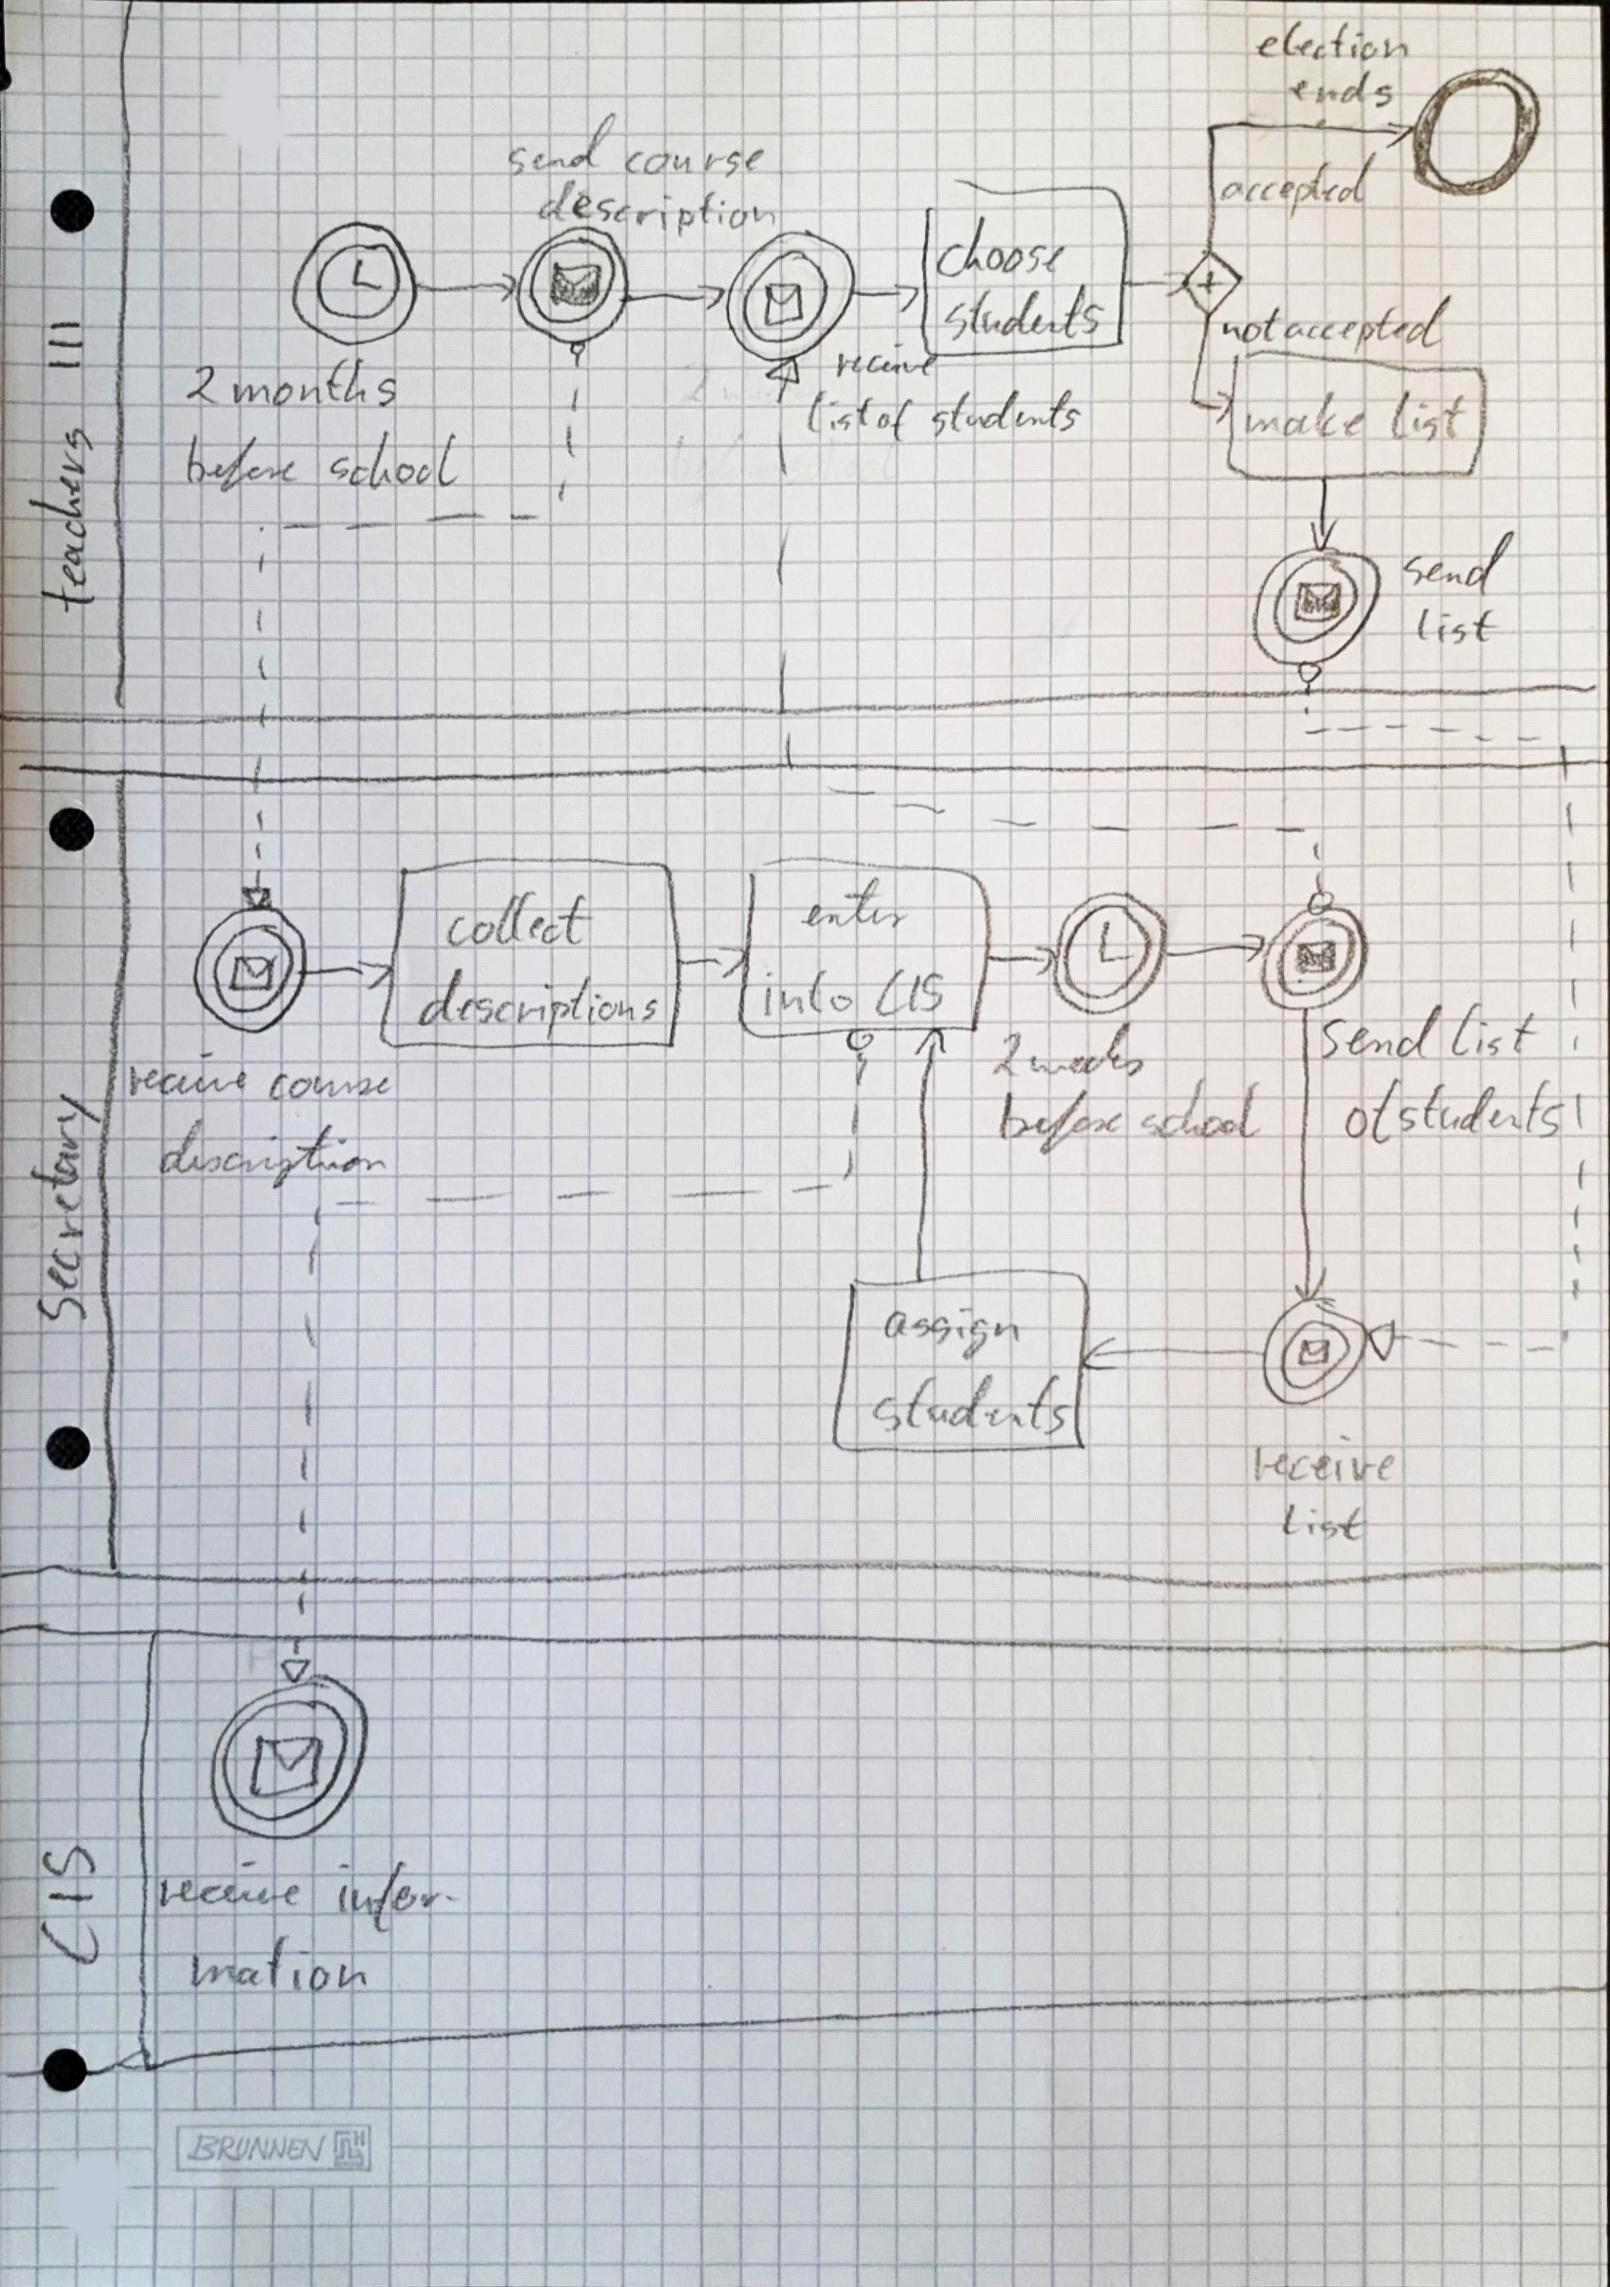2: (993, 1030, 1024, 1082), (181, 364, 220, 404)
CIS: (36, 1847, 102, 1967), (878, 968, 949, 1023)
III: (40, 315, 85, 382)
Secretary: (32, 1095, 101, 1320)
accepted: (1218, 149, 1377, 212), (1285, 295, 1452, 354)
assign: (885, 1307, 1018, 1355)
before: (998, 1089, 1124, 1156), (184, 434, 297, 490)
choose: (935, 218, 1068, 281)
collect: (445, 892, 591, 946)
course: (270, 1066, 393, 1104), (625, 149, 769, 180)
description: (155, 1119, 399, 1188), (537, 180, 776, 232)
descriptions: (420, 966, 661, 1040)
election: (1254, 20, 1414, 63)
ends: (1291, 72, 1396, 110)
enter: (806, 877, 908, 932)
infor-: (334, 1859, 460, 1934)
into: (758, 970, 853, 1020)
list: (1452, 1003, 1537, 1065), (1387, 389, 1471, 441), (1278, 1498, 1360, 1546), (803, 389, 875, 434), (1413, 608, 1494, 647)
make: (1245, 392, 1364, 444)
mation: (184, 1932, 372, 1998)
months: (229, 360, 400, 408)
not: (1220, 305, 1282, 346)
of: (1342, 1076, 1401, 1148), (875, 398, 912, 448)
receive: (152, 1859, 303, 1913), (1250, 1433, 1400, 1488), (126, 1052, 251, 1100), (834, 341, 939, 380)
school: (330, 431, 460, 490), (1138, 1079, 1265, 1137)
send: (1316, 1003, 1442, 1067), (509, 113, 616, 179), (1400, 531, 1514, 593)
students: (872, 1374, 1073, 1433), (1399, 1080, 1562, 1140), (944, 286, 1109, 340), (933, 391, 1080, 442)
teachers: (27, 424, 94, 613)
weeks: (1027, 1019, 1147, 1078)
